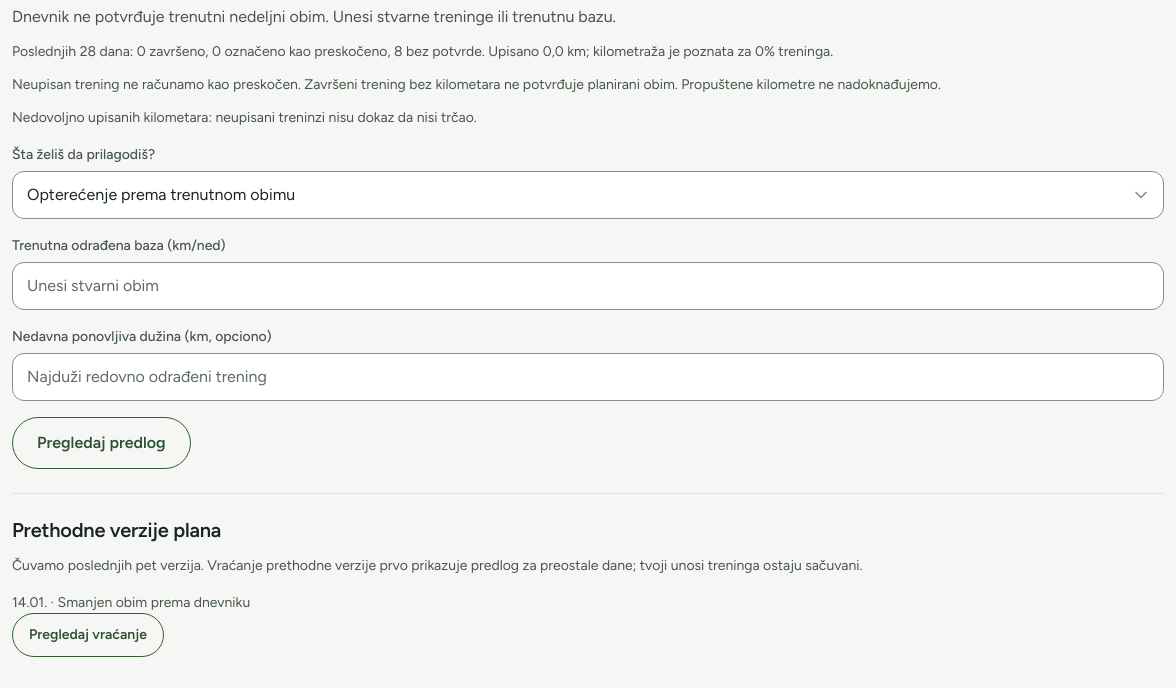
Scenario: ExecutionAdjustment › vraćanje verzije prikazuje pregled i čeka primenu
Click the button with aria-label "Pregledaj vraćanje: Smanjen obim prema dnevniku" at (88, 635), box left=12, top=613, right=164, bottom=657
(page scrolled)
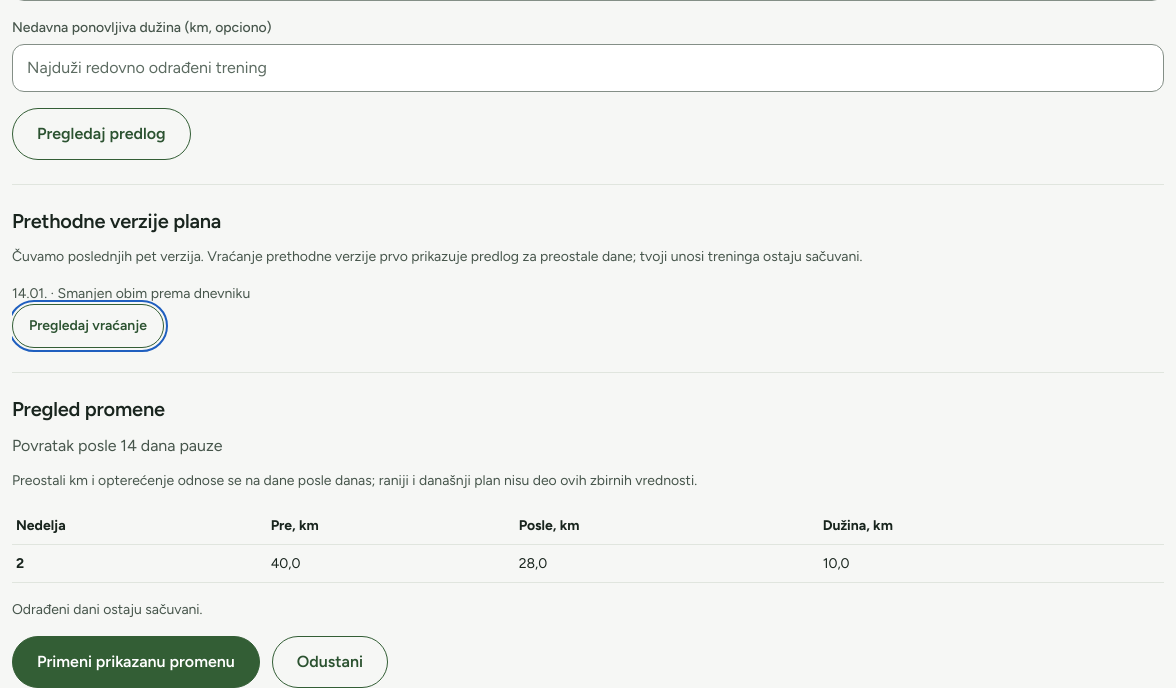
Check: the heading "Pregled promene" is shown, box left=12, top=397, right=165, bottom=422
Click the button "Odustani" at (330, 662), box left=272, top=636, right=388, bottom=687
(page scrolled)
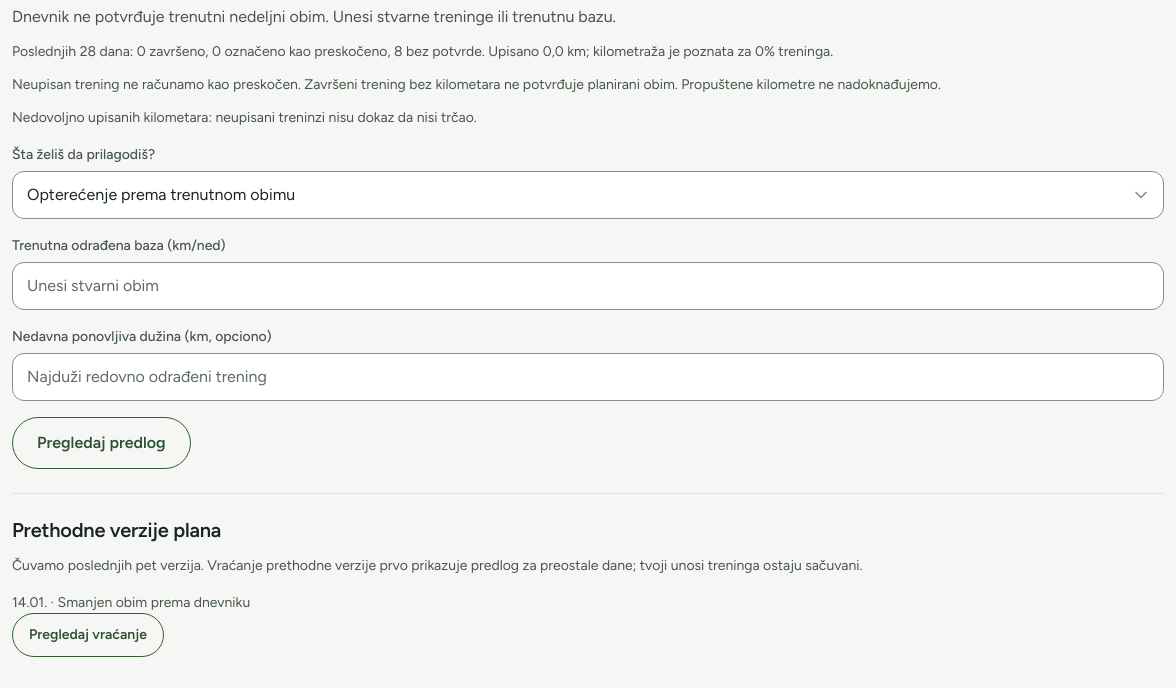
Check: the heading "Pregled promene" is gone
